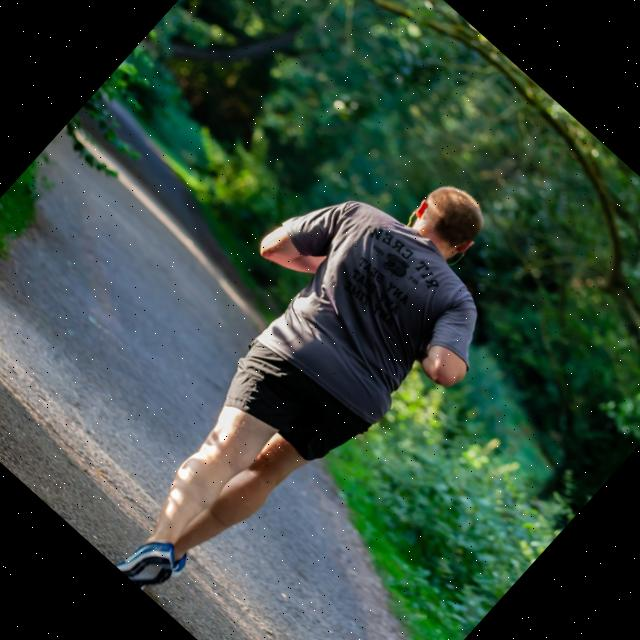Person: (34, 113, 556, 640)
